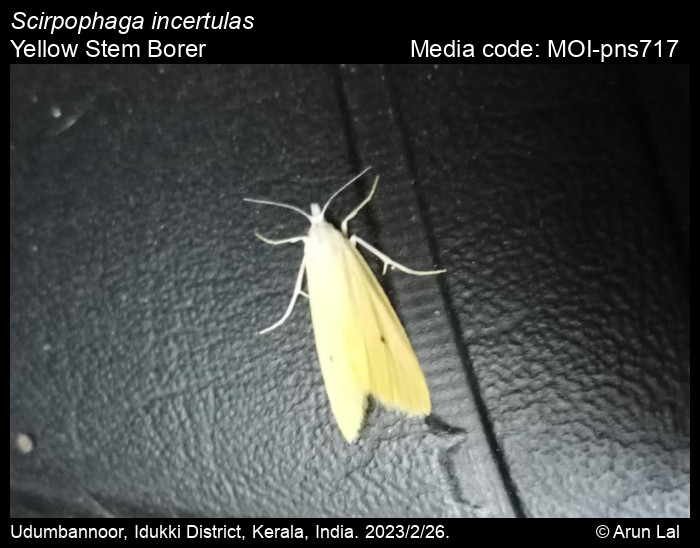Crambidae: (240, 164, 450, 446)
